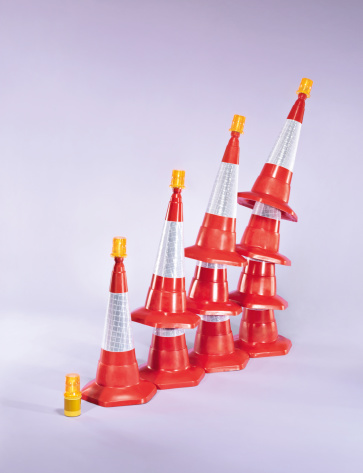trafficcone: (81, 257, 157, 406), (130, 188, 201, 327), (236, 93, 307, 222), (185, 132, 248, 268), (140, 327, 206, 390), (234, 202, 292, 266)
